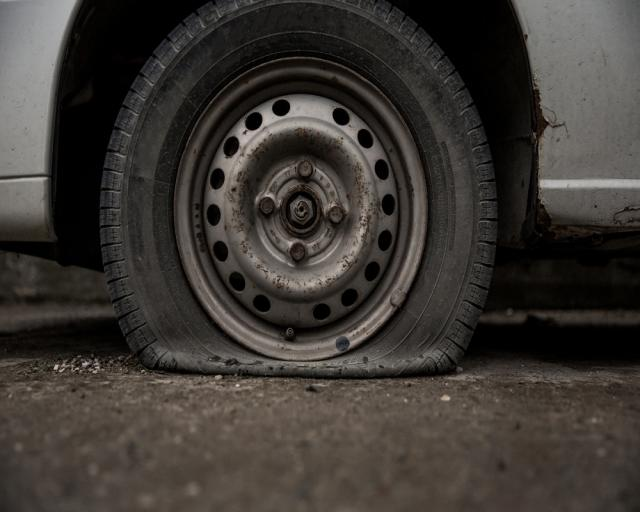tire flat: (98, 0, 495, 381)
